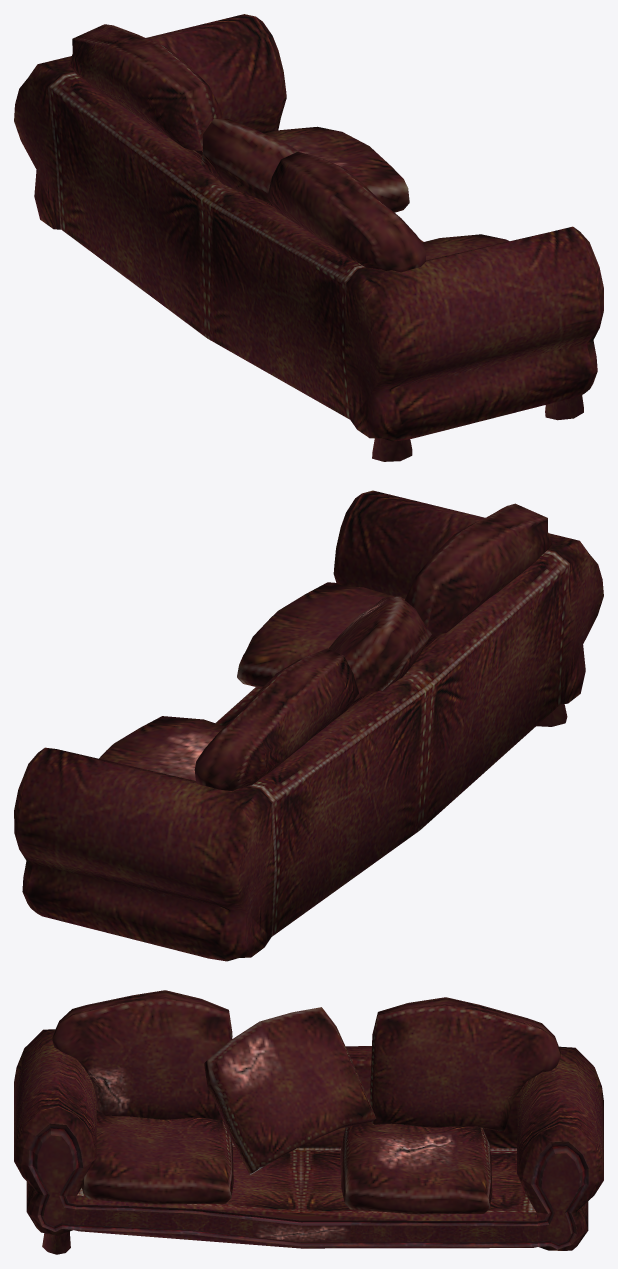
File: M_Home_Garden_Couch_01.fbx
3 views of the same model, one above another, from view 1: azimuth 30°, elevation 25°; view 2: azimuth 150°, elevation 25°; view 3: azimuth 270°, elevation 25° (orthographic). The views are drawn at different scales.
Visible parts, largest first — view 1: M_Home_Garden_Couch_01; view 2: M_Home_Garden_Couch_01; view 3: M_Home_Garden_Couch_01.
Boxes of the visible parts, box(x1,y1,x2,y2) form: M_Home_Garden_Couch_01: box(14, 14, 603, 461); M_Home_Garden_Couch_01: box(14, 490, 603, 961); M_Home_Garden_Couch_01: box(14, 990, 603, 1254).
Size of the model in its own units: 127 by 117 by 332.
